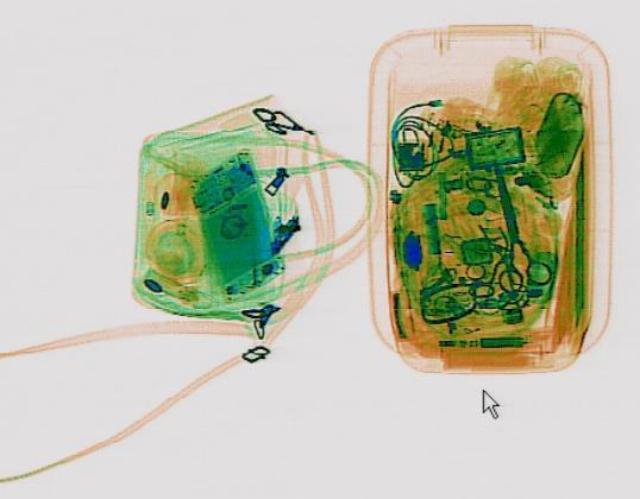Scissors: (470, 155, 552, 292)
